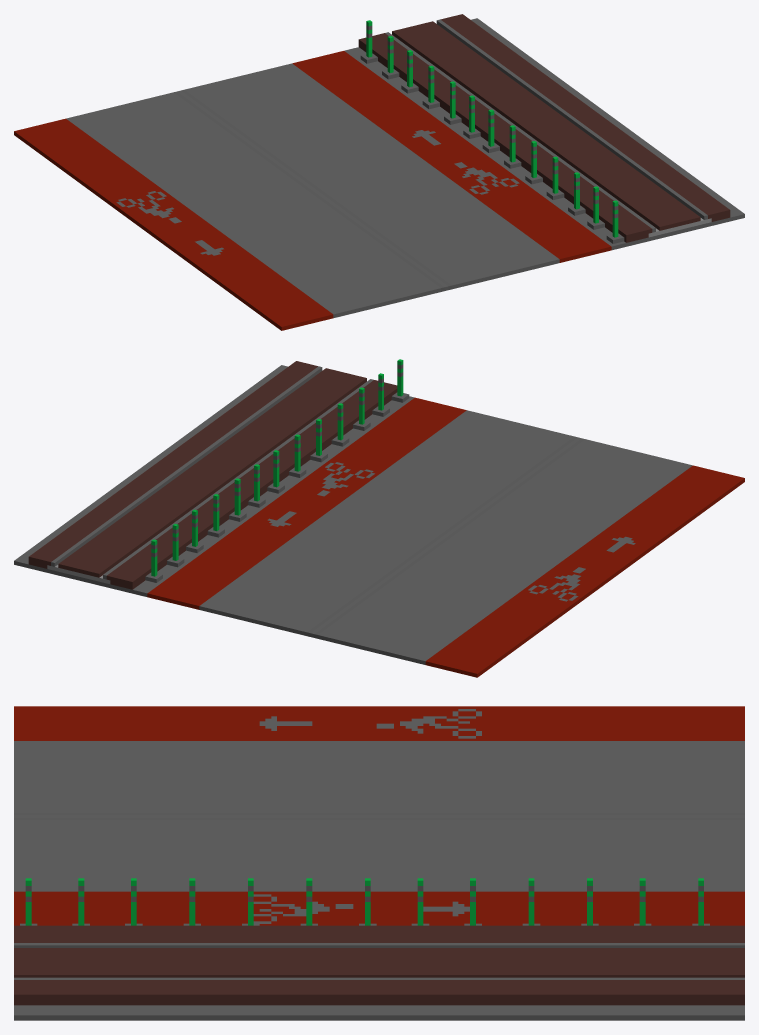
The model's file is kfarr_bases_valencia_tram2.obj.
3 renders of one model, top to bottom at view 1: azimuth 30°, elevation 25°; view 2: azimuth 150°, elevation 25°; view 3: azimuth 270°, elevation 25°, orthographic. The views are drawn at different scales.
Bounding box in the file's own units: 125 × 11 × 125.
